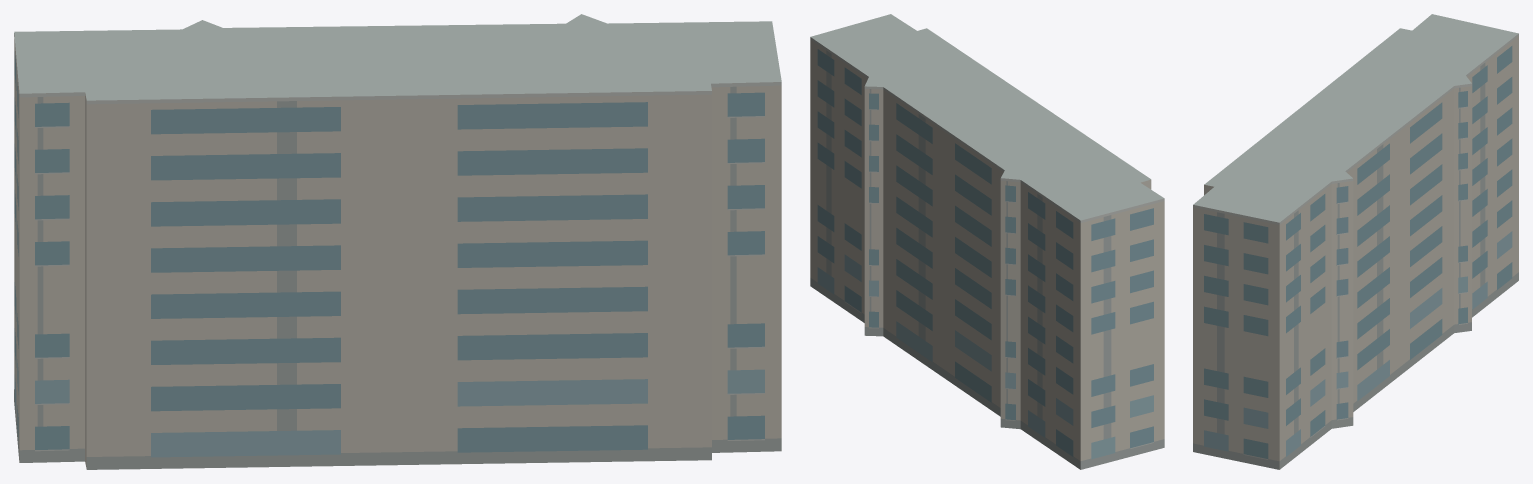
Rendered from survey-upis-32852483.glb.
The picture shows the model from 3 angles, left to right: view 1: azimuth 30°, elevation 25°; view 2: azimuth 150°, elevation 25°; view 3: azimuth 270°, elevation 25°; orthographic projection. The views are drawn at different scales.
Visible parts, largest first — view 1: survey-upis-32852483.tmp; view 2: survey-upis-32852483.tmp; view 3: survey-upis-32852483.tmp.
Part boxes in pixels (x1=…): survey-upis-32852483.tmp: x1=14, y1=14, x2=781, y2=469; survey-upis-32852483.tmp: x1=810, y1=14, x2=1164, y2=469; survey-upis-32852483.tmp: x1=1193, y1=14, x2=1518, y2=469.
Bounding box in the file's own units: 44.18 × 24.4 × 29.15.
